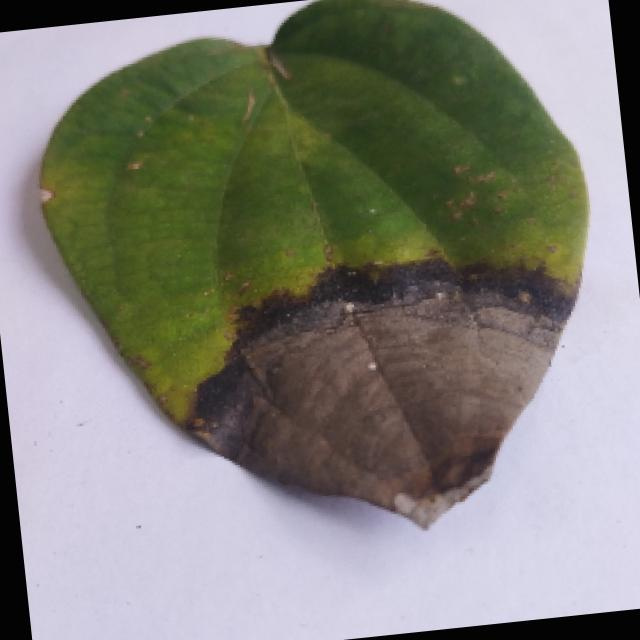footrot: (0, 0, 630, 577)
